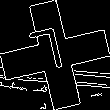L_S: (34, 27, 76, 83)
